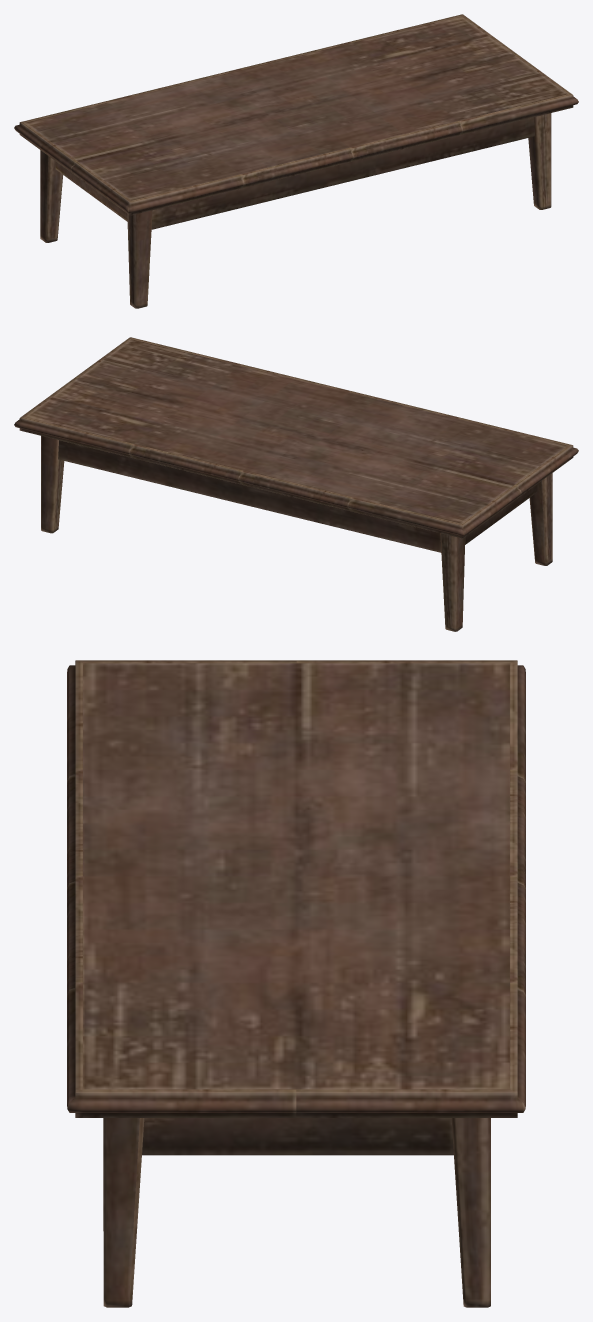
Rendered from table_large_comfort2.glb.
The picture shows the model from 3 angles, top to bottom: view 1: azimuth 30°, elevation 25°; view 2: azimuth 150°, elevation 25°; view 3: azimuth 270°, elevation 25°; orthographic projection. The views are drawn at different scales.
Visible parts, largest first — view 1: ensemble_set_dungeon_table_large; view 2: ensemble_set_dungeon_table_large; view 3: ensemble_set_dungeon_table_large.
Boxes of the visible parts, box(x1,y1,x2,y2) form: ensemble_set_dungeon_table_large: box(14, 14, 578, 308); ensemble_set_dungeon_table_large: box(14, 337, 578, 631); ensemble_set_dungeon_table_large: box(67, 660, 525, 1307).
Size of the model in its own units: 3.75 by 0.911 by 1.66.
Materials: 1 (1 with a texture image).
